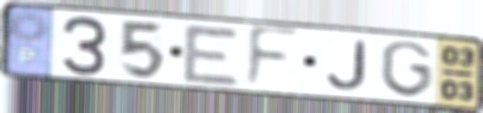3: (58, 13, 111, 78)
5: (116, 19, 169, 81)
E: (180, 22, 242, 89)
F: (242, 24, 302, 92)
G: (378, 39, 436, 99)
J: (325, 38, 370, 92)
